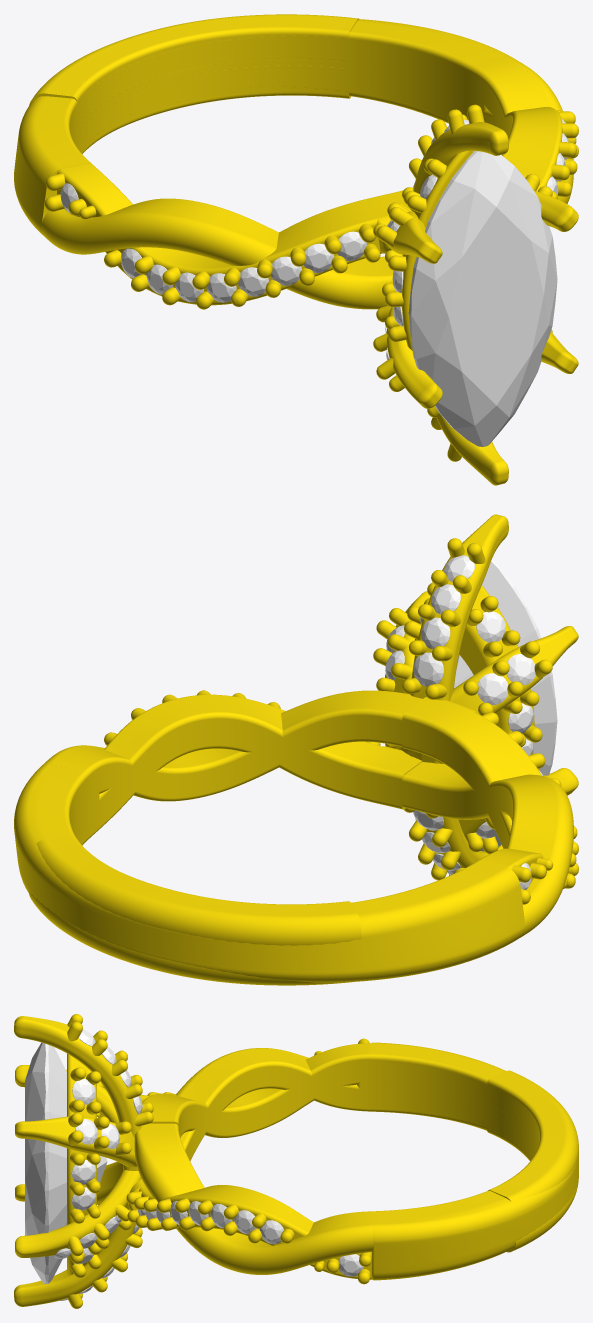
File: 1787556563635-LLGCC238RG.glb
The picture shows the model from 3 angles, top to bottom: view 1: azimuth 30°, elevation 25°; view 2: azimuth 150°, elevation 25°; view 3: azimuth 270°, elevation 25°; orthographic projection. The views are drawn at different scales.
Parts seen in each view (by area): view 1: Metal-1, gem_1, Diamond_Round_49, Diamond_Round_50, Diamond_Round_48, Diamond_Round_51; view 2: Metal-1, gem_1, Diamond_Round_15, Diamond_Round_9, Diamond_Round_19, Diamond_Round_8, Diamond_Round_14, Diamond_Round_13; view 3: Metal-1, gem_1, Diamond_Round_20, Diamond_Round_32, Diamond_Round_31, Diamond_Round_21, Diamond_Round_11, Diamond_Round_30.
Boxes of the visible parts, <box> form: Metal-1: <box>14,14,578,485</box>; gem_1: <box>408,151,557,446</box>; Diamond_Round_49: <box>271,256,301,285</box>; Diamond_Round_50: <box>304,243,334,272</box>; Diamond_Round_48: <box>238,267,268,296</box>; Diamond_Round_51: <box>337,231,366,260</box>; Metal-1: <box>14,514,578,985</box>; gem_1: <box>454,559,557,851</box>; Diamond_Round_15: <box>413,652,443,686</box>; Diamond_Round_9: <box>477,673,508,705</box>; Diamond_Round_19: <box>476,611,505,642</box>; Diamond_Round_8: <box>506,654,535,685</box>; Diamond_Round_14: <box>421,617,450,649</box>; Diamond_Round_13: <box>431,584,460,614</box>; Metal-1: <box>14,1014,578,1308</box>; gem_1: <box>25,1042,107,1284</box>; Diamond_Round_20: <box>72,1079,95,1104</box>; Diamond_Round_32: <box>338,1254,363,1276</box>; Diamond_Round_31: <box>259,1220,283,1244</box>; Diamond_Round_21: <box>71,1160,96,1184</box>; Diamond_Round_11: <box>75,1119,98,1144</box>; Diamond_Round_30: <box>234,1210,256,1234</box>.
Size of the model in its own units: 22.05 by 15.19 by 27.04.
